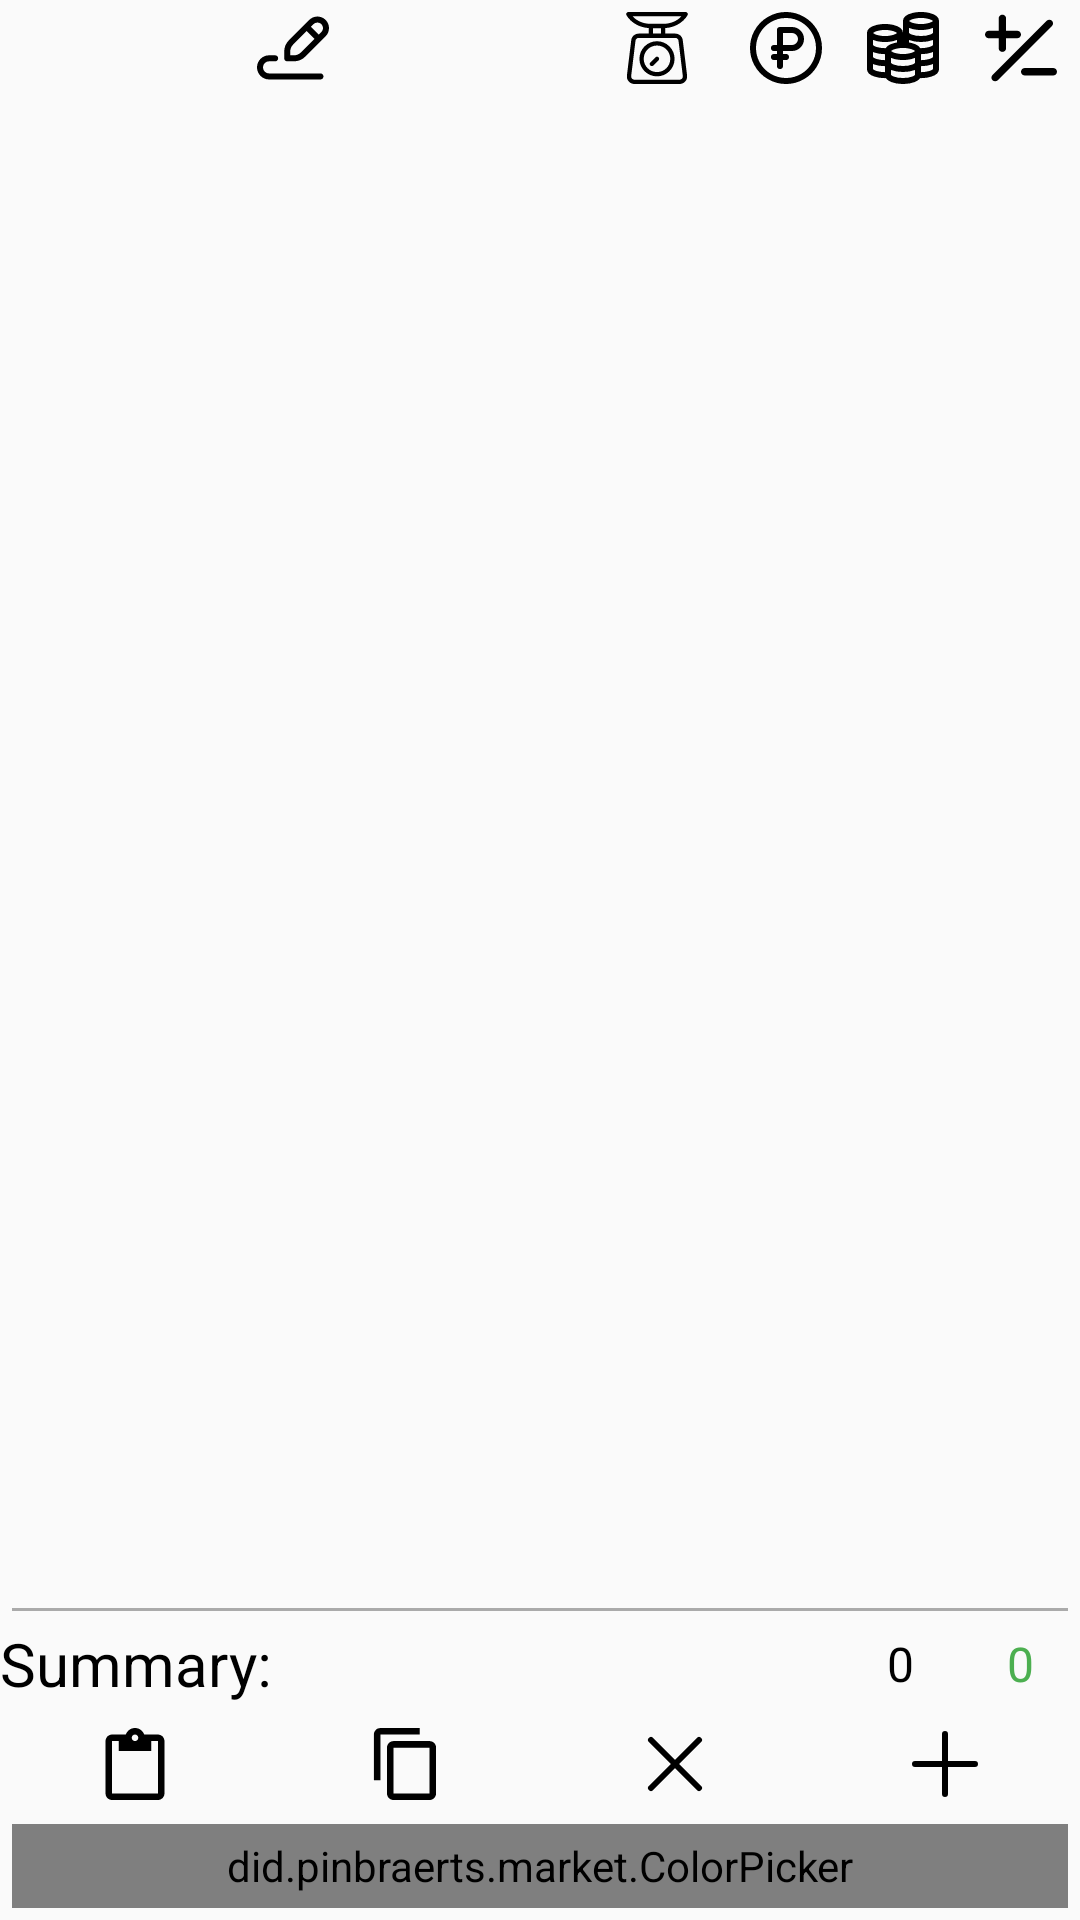

Where icons sit on this 1080px x 1920px app screen, as detection(x1, y1, x2, y2):
add: detection(912, 1731, 978, 1797)
copy: detection(374, 1728, 436, 1800)
cost: detection(867, 12, 939, 84)
discrepancy: detection(985, 14, 1057, 82)
name: detection(257, 16, 329, 80)
paste: detection(105, 1728, 165, 1800)
price: detection(750, 12, 822, 84)
remove all: detection(648, 1737, 702, 1791)
weight/amount: detection(626, 12, 688, 84)
